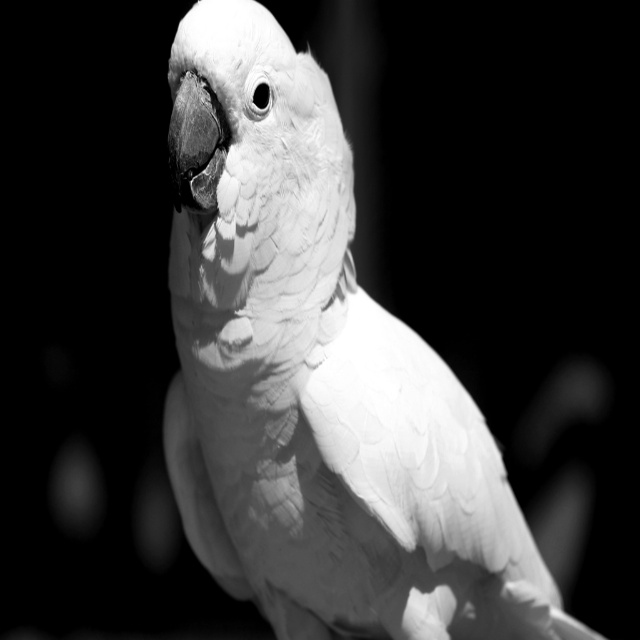Parrot: (163, 0, 609, 640)
